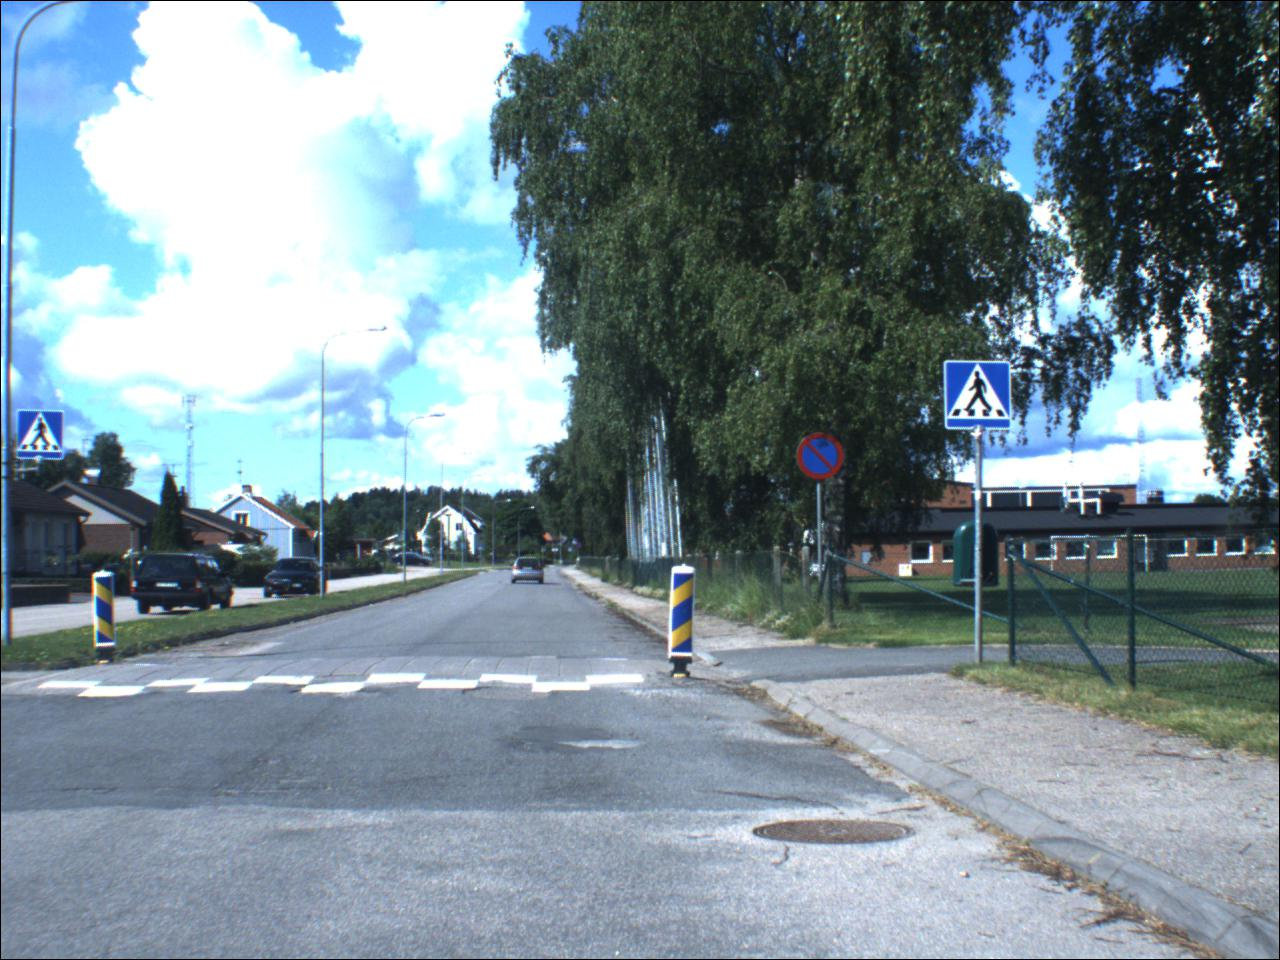NO_PARKING: (798, 433, 847, 483)
PEDESTRIAN_CROSSING: (945, 363, 1013, 432), (19, 412, 66, 463)
